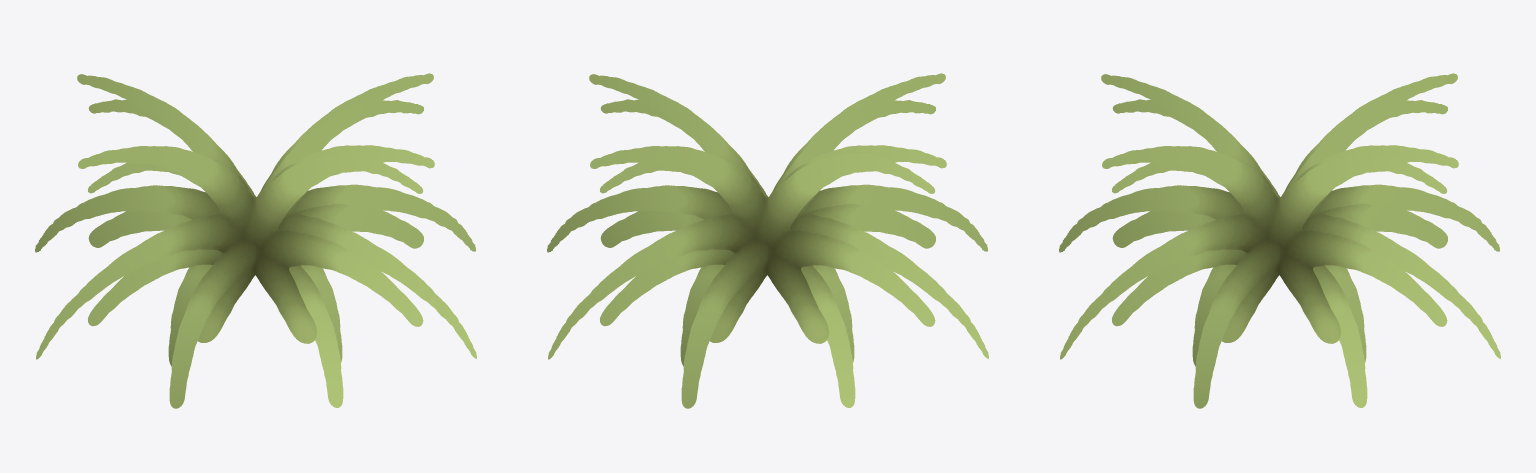
Rendered from HP3_weed033.fbx.
3 renders of one model, left to right at view 1: azimuth 30°, elevation 25°; view 2: azimuth 150°, elevation 25°; view 3: azimuth 270°, elevation 25°, orthographic.
Parts seen in each view (by area): view 1: HP3_weed033; view 2: HP3_weed033; view 3: HP3_weed033.
Part boxes in pixels (left/top/right/bottom): HP3_weed033: left=35, top=73, right=476, bottom=408; HP3_weed033: left=547, top=73, right=988, bottom=408; HP3_weed033: left=1059, top=73, right=1500, bottom=408.
Size of the model in its own units: 11.74 by 6.83 by 10.19.
